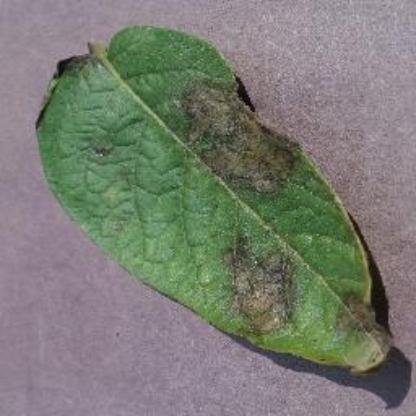Late-Blight: (33, 19, 399, 379)
